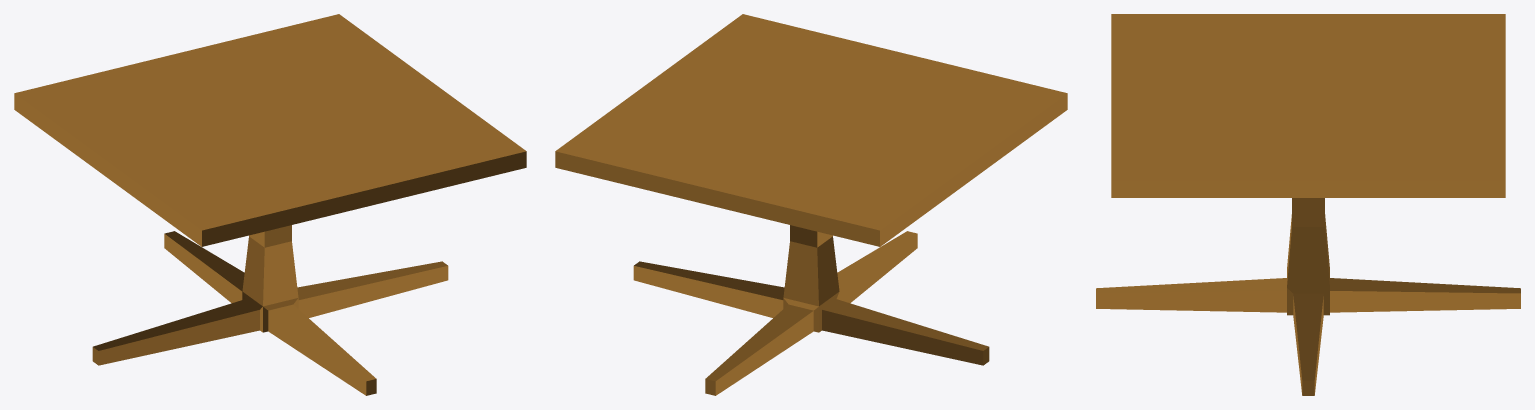
File: smalltable_v02.fbx
3 renders of one model, left to right at view 1: azimuth 30°, elevation 25°; view 2: azimuth 150°, elevation 25°; view 3: azimuth 270°, elevation 25°, orthographic. The views are drawn at different scales.
Parts seen in each view (by area): view 1: Table_01; view 2: Table_01; view 3: Table_01.
Part boxes in pixels (x1=…): Table_01: x1=14, y1=14, x2=526, y2=395; Table_01: x1=555, y1=14, x2=1067, y2=395; Table_01: x1=1096, y1=14, x2=1520, y2=395.
Bounding box in the file's own units: 168 × 91.27 × 168.
